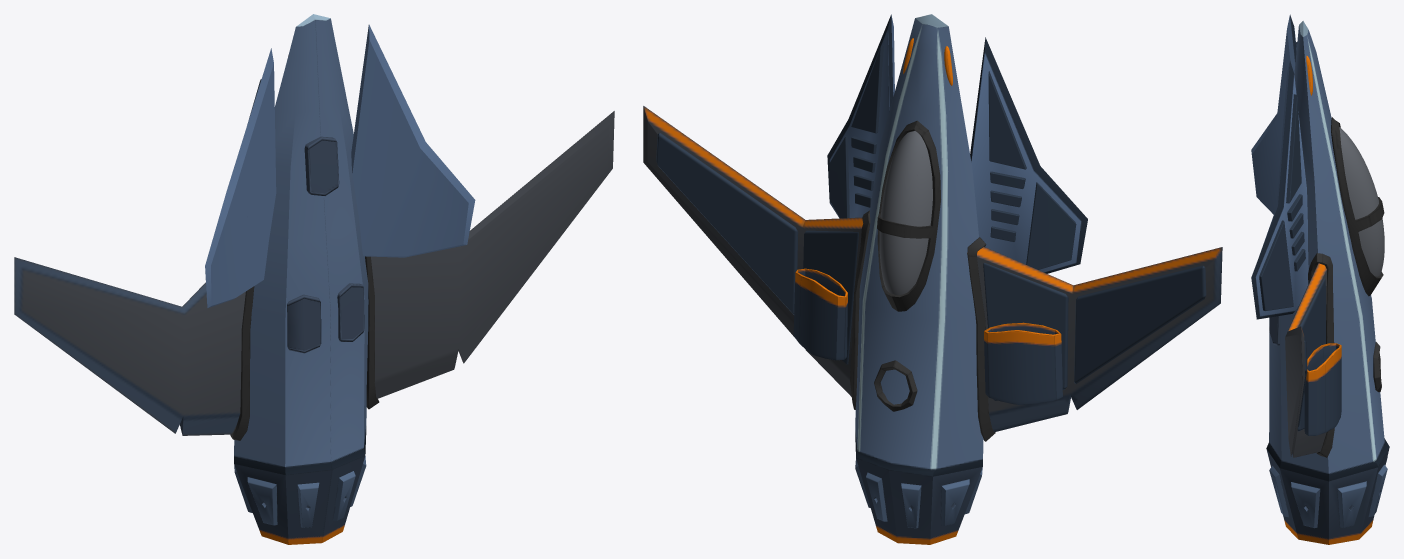
The model's file is ship.fbx.
The picture shows the model from 3 angles, left to right: view 1: azimuth 30°, elevation 25°; view 2: azimuth 150°, elevation 25°; view 3: azimuth 270°, elevation 25°; orthographic projection. The views are drawn at different scales.
Parts seen in each view (by area): view 1: wings, deck_engine, second_wings, landding_gear_front.001, wing_support, landding_gear_front; view 2: deck_engine, plate_wings, wings, second_wings, air_intake, plate_second_wings, cockpit_glass, wing_support, cockpit_structure, gun_base_support; view 3: deck_engine, second_wings, plate_second_wings, wings, air_intake, cockpit_glass, cockpit_structure, plate_wings, wing_support, gun_base_support, landding_gear_front.001.
Boxes of the visible parts, bbox=[...] form: wings: bbox=[14, 111, 614, 435]; deck_engine: bbox=[234, 14, 368, 544]; second_wings: bbox=[205, 24, 475, 308]; landding_gear_front.001: bbox=[287, 283, 364, 353]; wing_support: bbox=[230, 256, 379, 440]; landding_gear_front: bbox=[304, 136, 339, 195]; deck_engine: bbox=[855, 14, 983, 544]; plate_wings: bbox=[656, 133, 1206, 400]; wings: bbox=[643, 106, 1222, 432]; second_wings: bbox=[827, 14, 1087, 273]; air_intake: bbox=[793, 268, 1062, 404]; plate_second_wings: bbox=[829, 45, 1076, 269]; cockpit_glass: bbox=[879, 131, 932, 294]; wing_support: bbox=[850, 210, 995, 441]; cockpit_structure: bbox=[877, 120, 940, 311]; gun_base_support: bbox=[874, 360, 917, 411]; deck_engine: bbox=[1266, 21, 1389, 544]; second_wings: bbox=[1251, 14, 1308, 319]; plate_second_wings: bbox=[1259, 42, 1305, 311]; wings: bbox=[1285, 263, 1326, 457]; air_intake: bbox=[1304, 343, 1341, 435]; cockpit_glass: bbox=[1339, 127, 1384, 276]; cockpit_structure: bbox=[1331, 117, 1384, 296]; plate_wings: bbox=[1297, 278, 1325, 431]; wing_support: bbox=[1308, 253, 1334, 457]; gun_base_support: bbox=[1373, 342, 1381, 392]; landding_gear_front.001: bbox=[1269, 316, 1280, 345].
Size of the model in its own units: 707 by 588 by 146.
